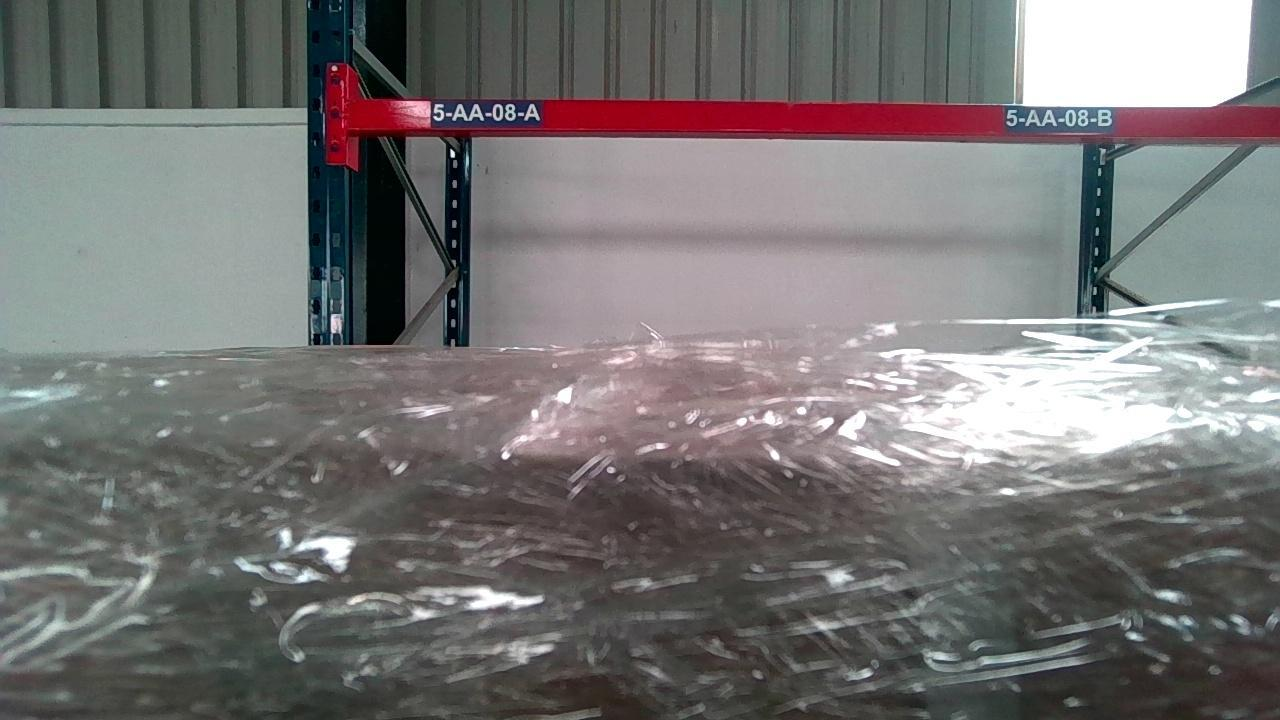h_rack: (349, 97, 1280, 137)
